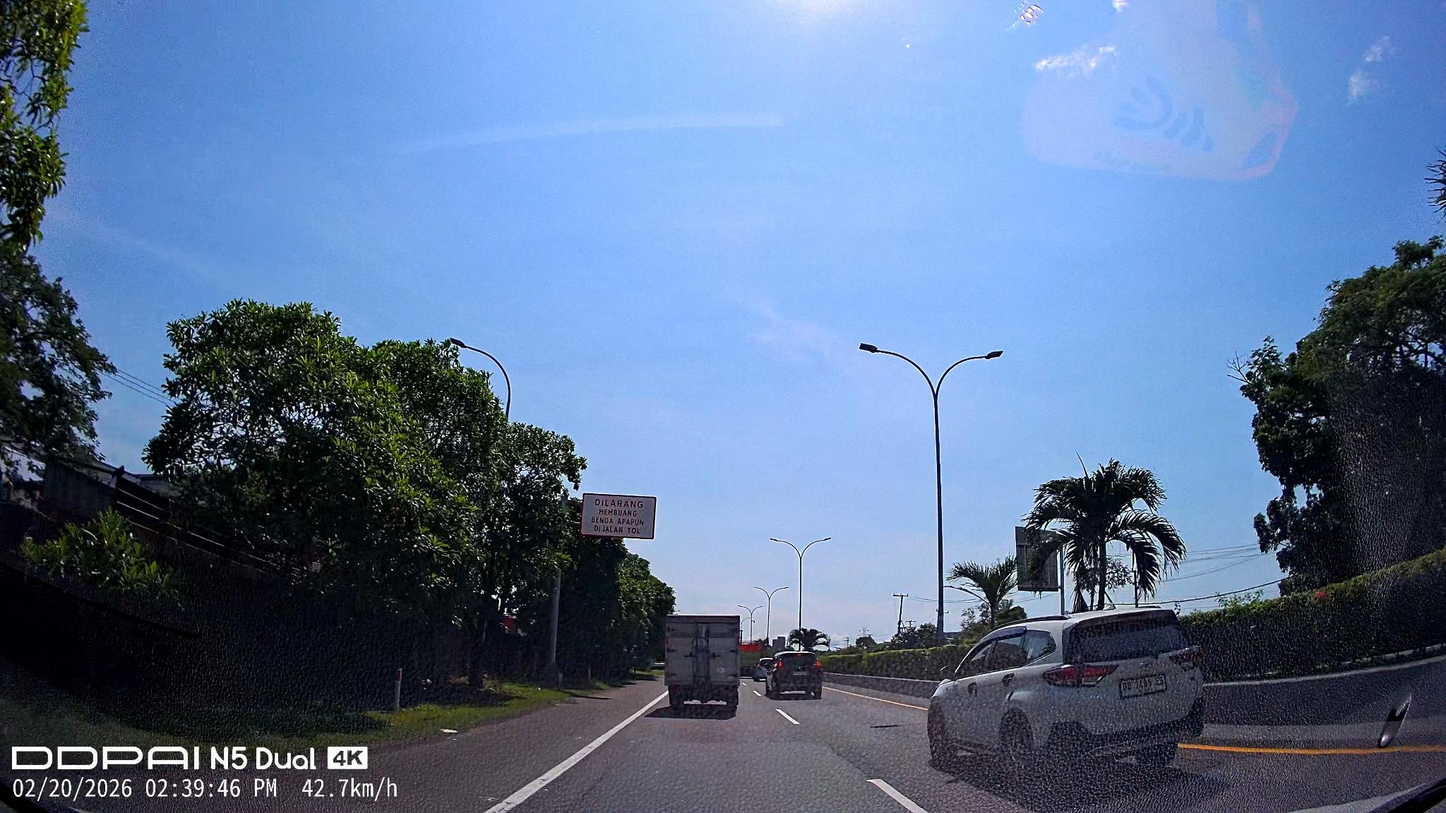rambu_teks: (579, 492, 657, 540)
